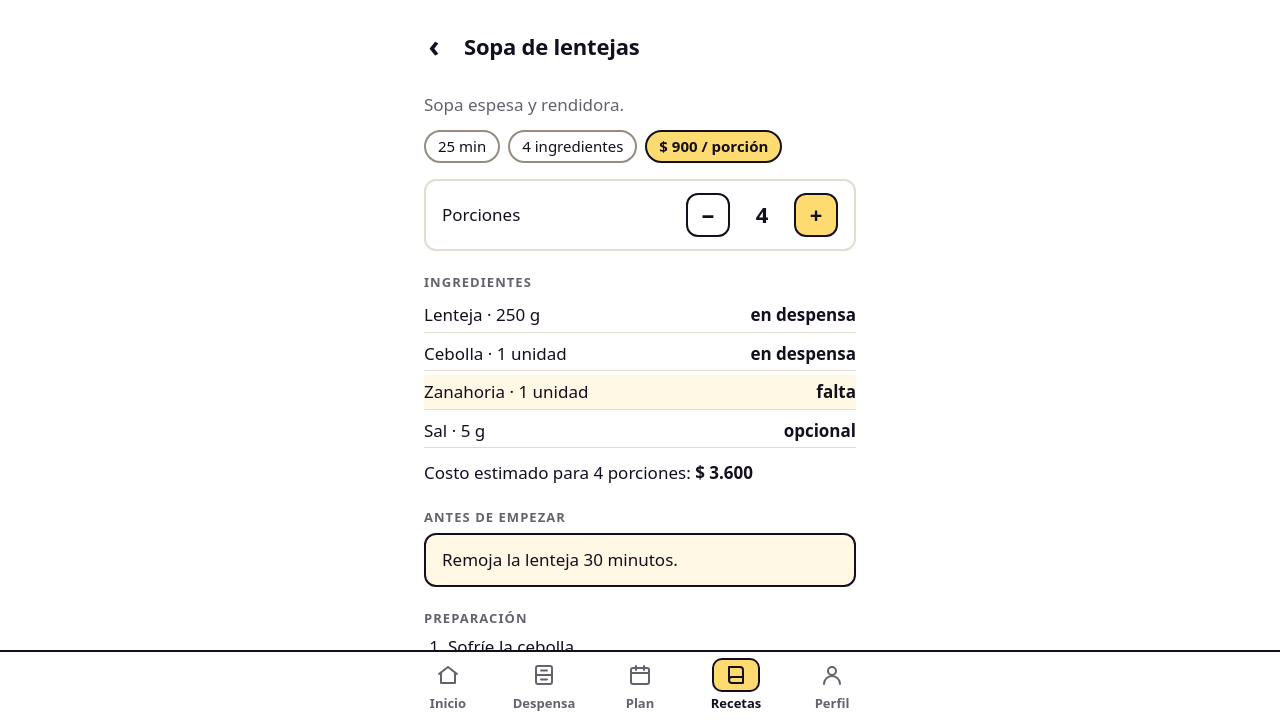
Test: Recetario (pantallas 21 a 24) › el detalle marca qué hay en la despensa y escala las porciones
This screenshot has width=1280, height=720.
Check: the heading "Sopa de lentejas" is shown, box [464,33,640,59]
Check: the text "Costo estimado para 4 porciones: $ 3.600" is shown, box [424,461,753,484]
Click the button named "Una porción más" at x=816, y=214, box [794,192,838,236]
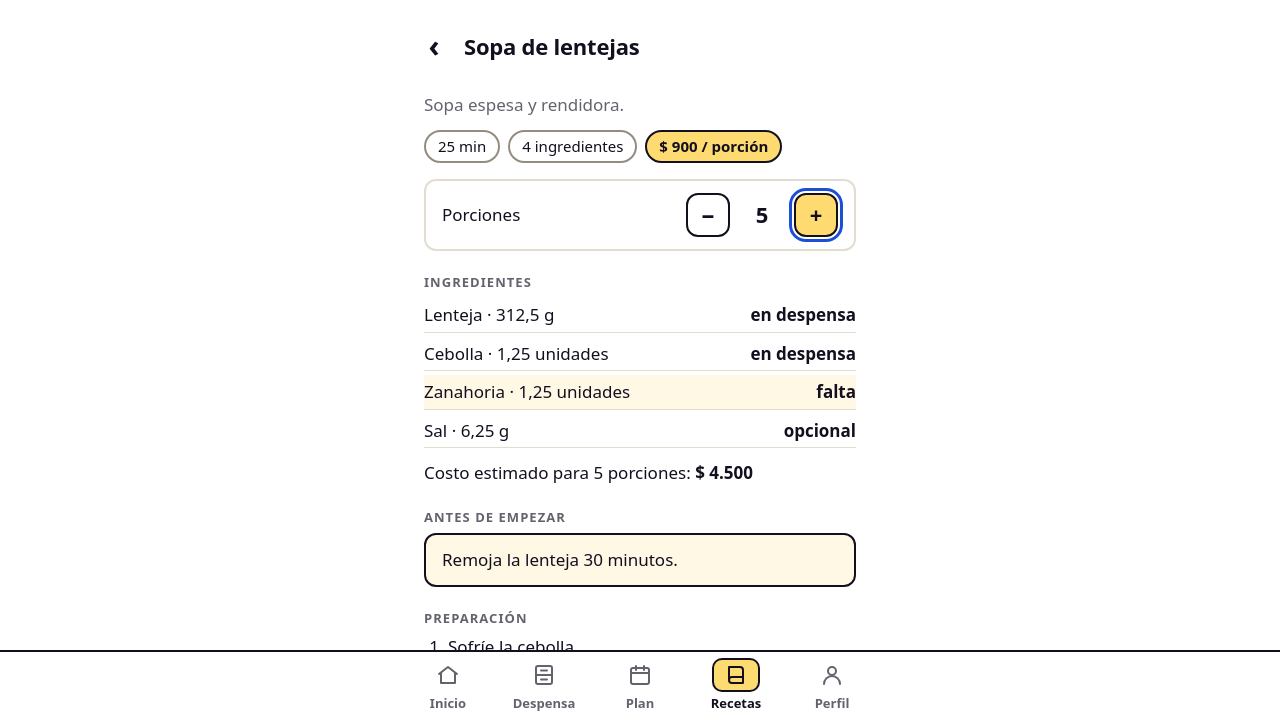
Click the button named "Una porción más" at x=816, y=214, box [794,192,838,236]
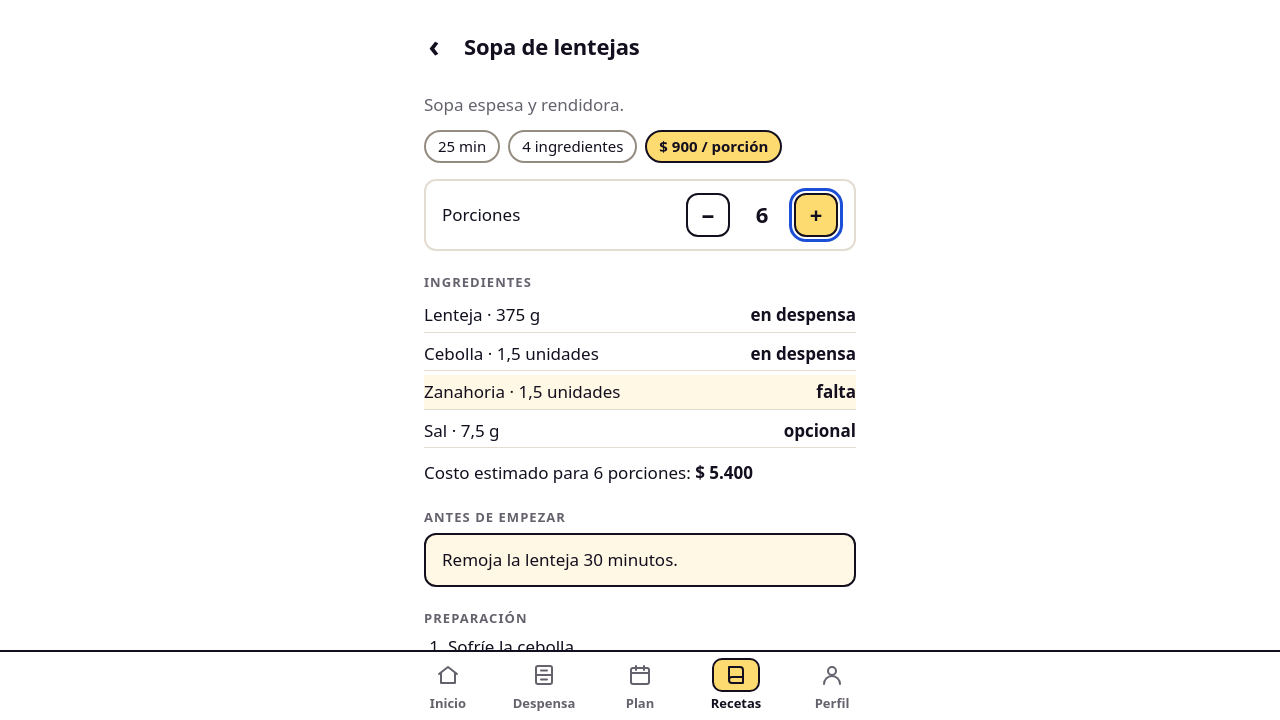
Click the button named "Una porción más" at x=816, y=214, box [794,192,838,236]
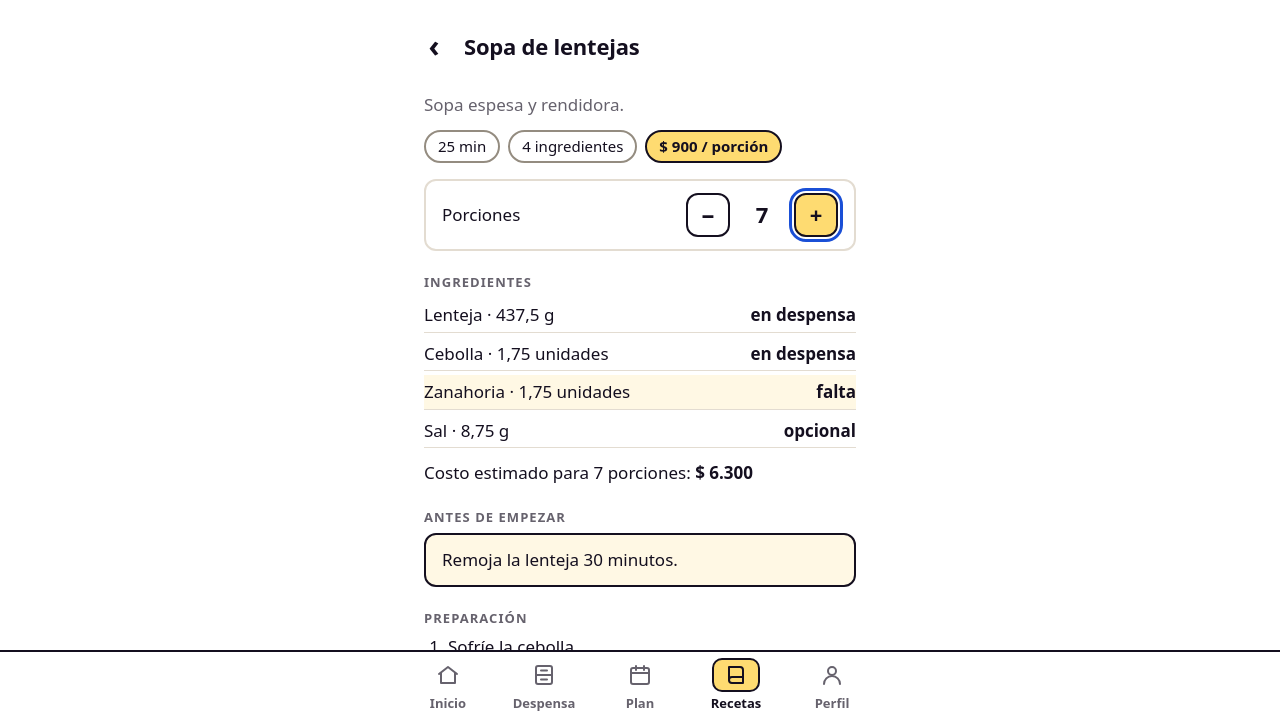
Click the button named "Una porción más" at x=816, y=214, box [794,192,838,236]
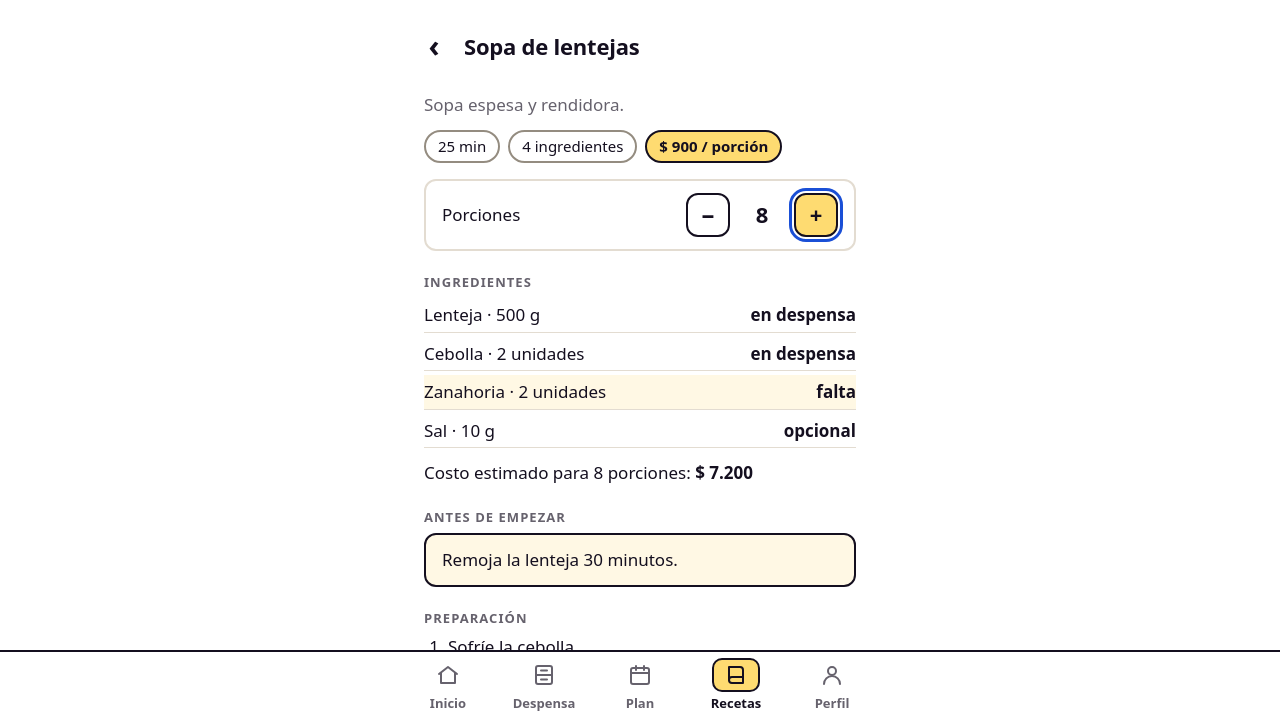
Check: the text "Lenteja · 500 g" is shown, box [424,302,540,328]
Check: the text "Costo estimado para 8 porciones: $ 7.200" is shown, box [424,461,753,484]
